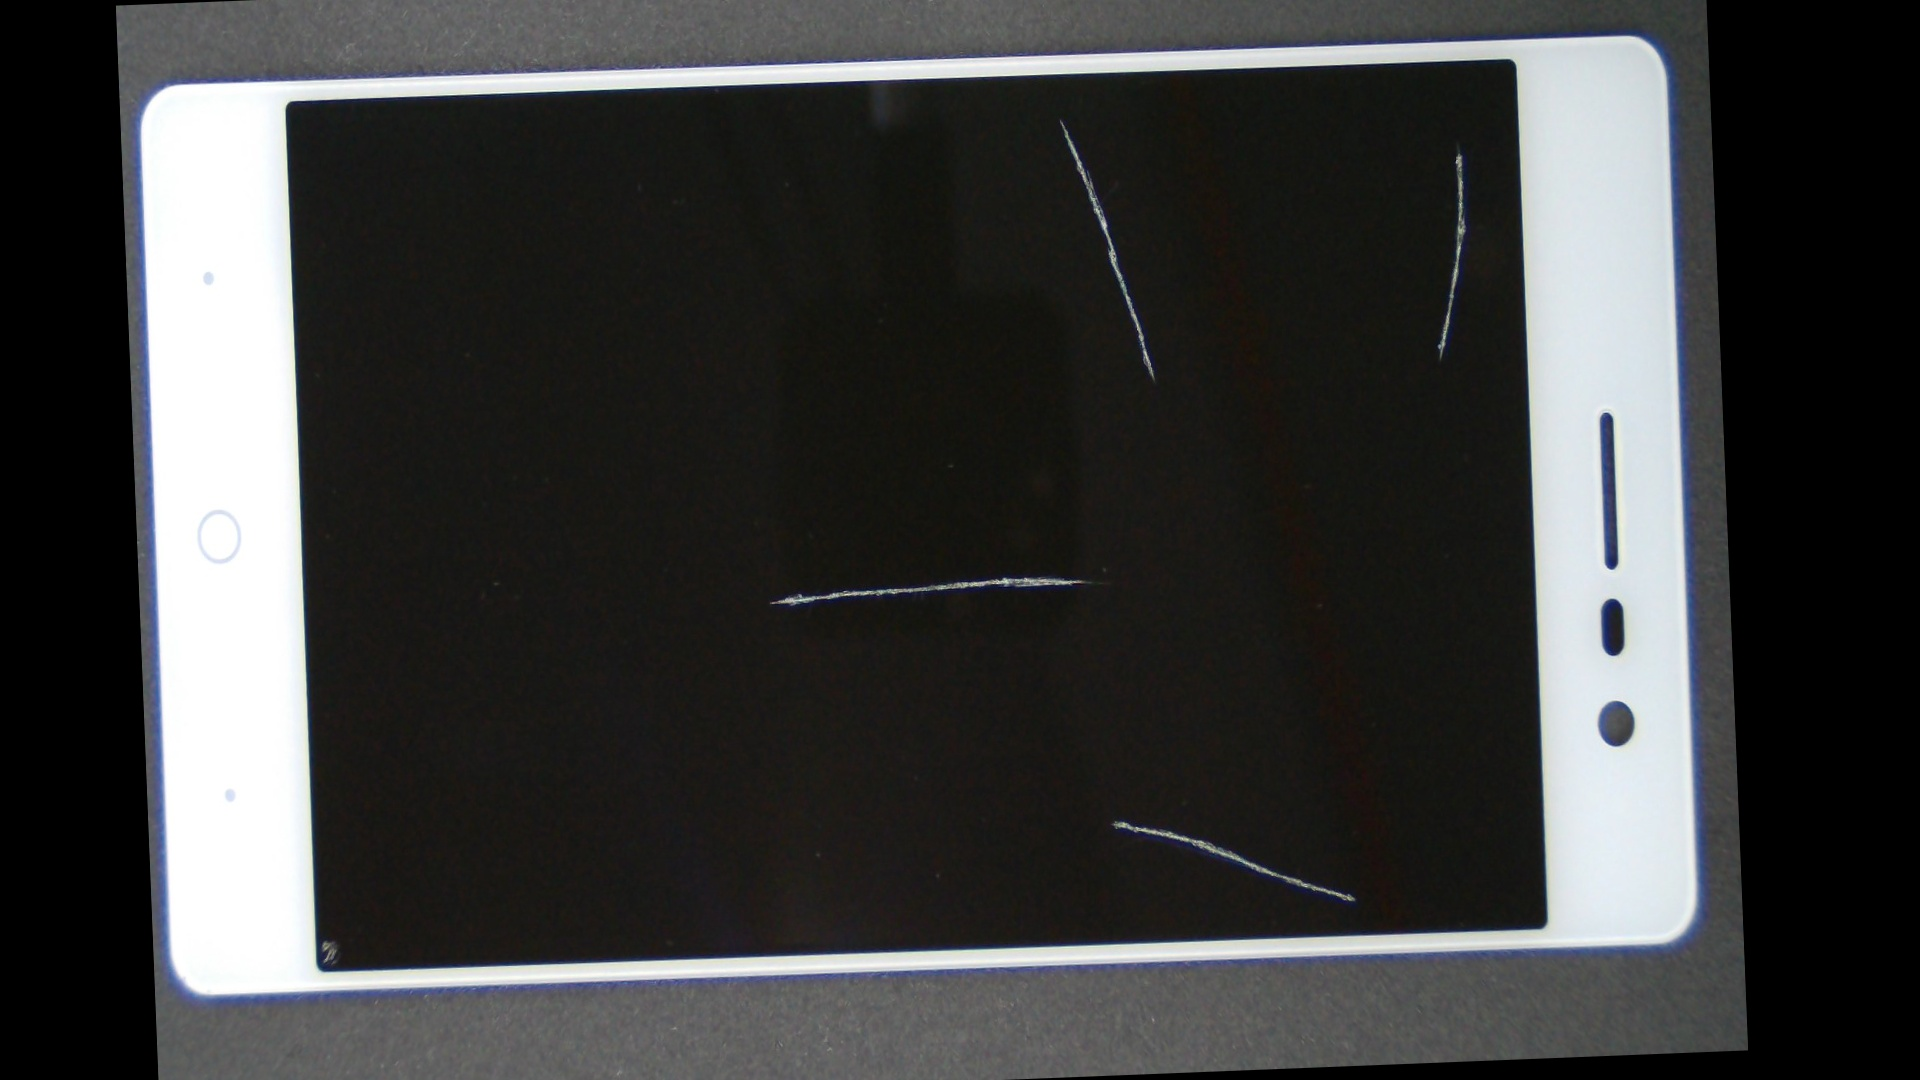oil: (616, 375, 1609, 1080), (556, 257, 1437, 898), (787, 42, 1716, 278), (588, 24, 1532, 212), (222, 465, 418, 1080)
